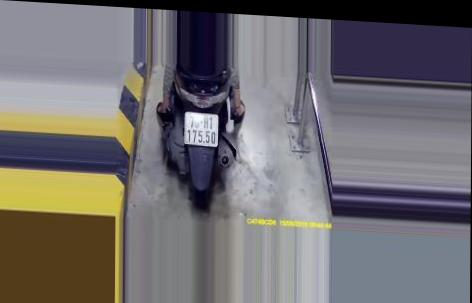License_Plate: (179, 108, 223, 151)
